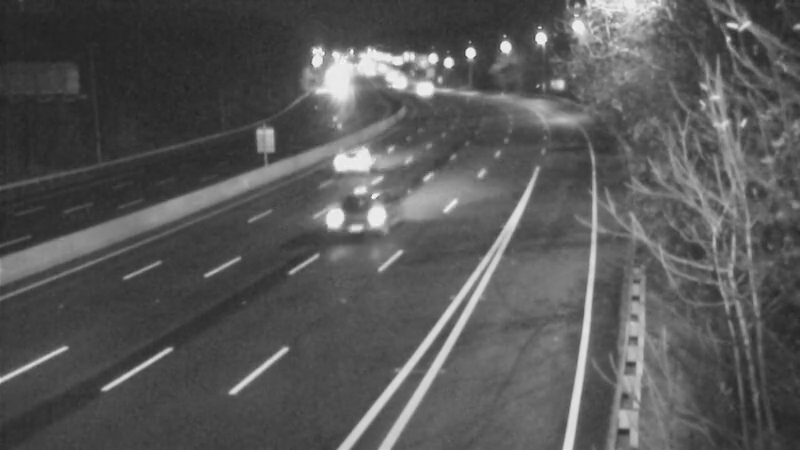vehicle: (305, 124, 385, 204), (324, 176, 404, 256), (393, 63, 443, 113), (314, 66, 364, 116)
